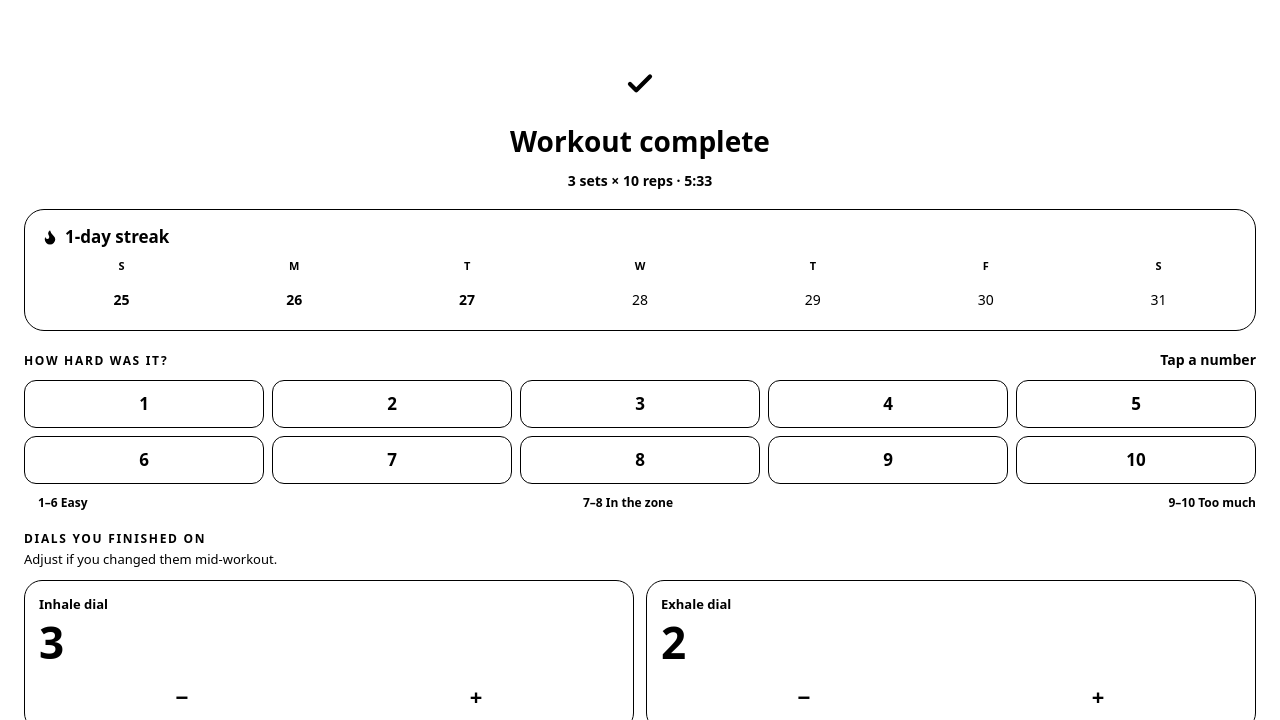
Test: CompleteScreen › shows "was N" for a changed dial
The width and height of the screenshot is (1280, 720).
Click the button named "Increase Inhale dial" at (476, 696), box [333,674,619,718]
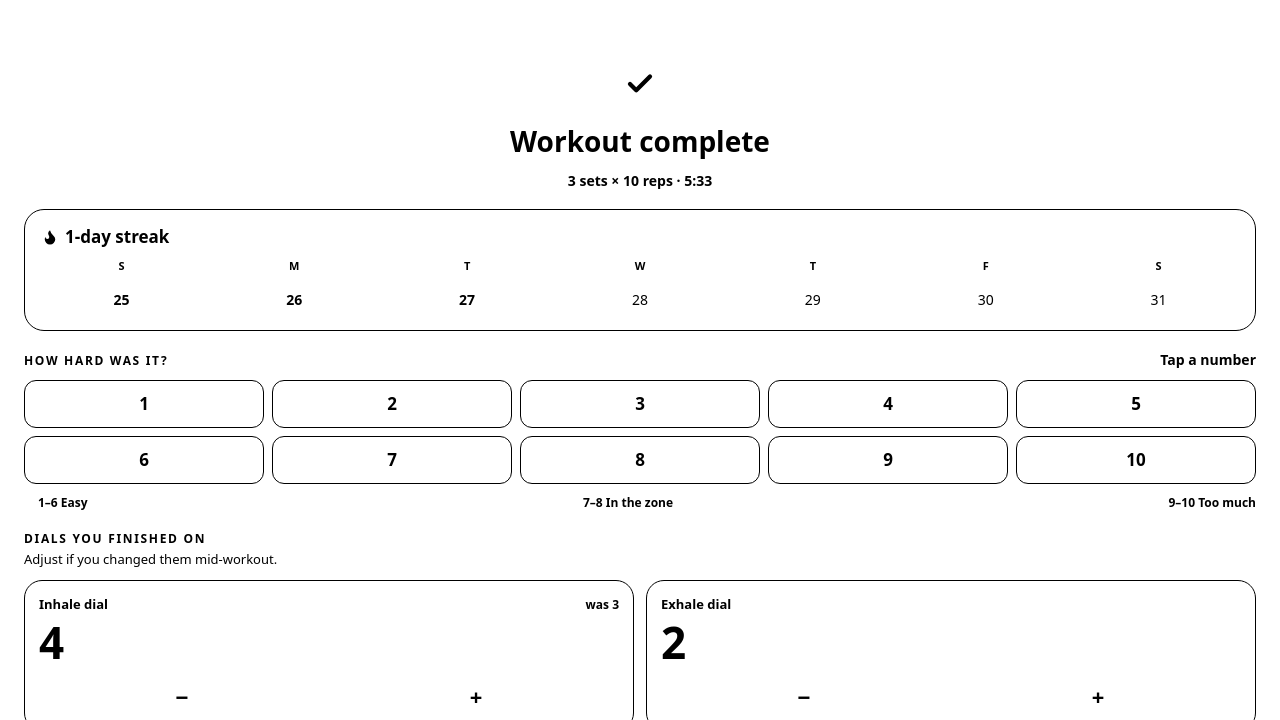
Result: the text "was 3" is shown at [586,596,619,614]
